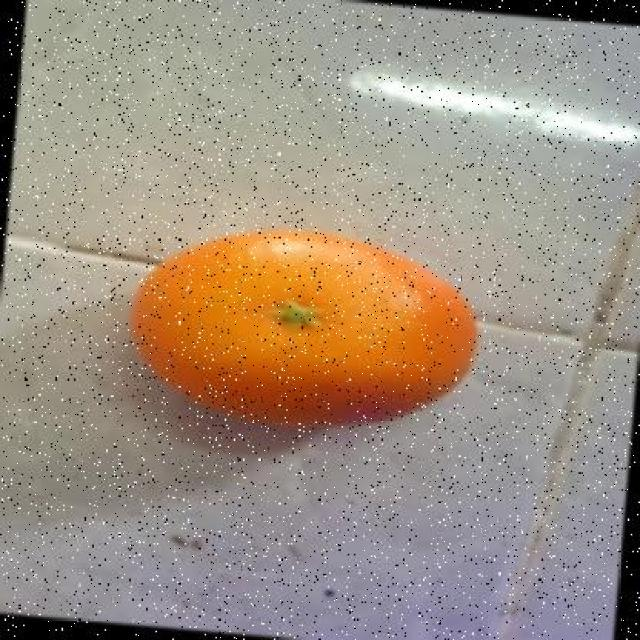Orange: (128, 225, 478, 429)
